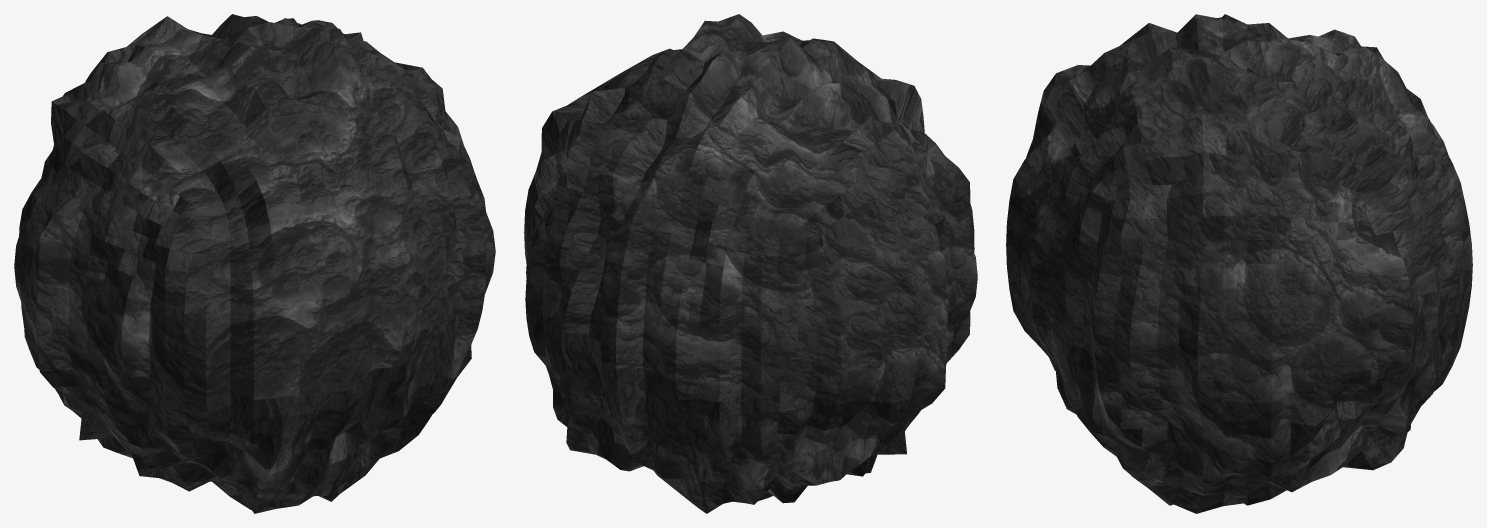
File: asteroid103.obj
3 views of the same model, side by side, from view 1: azimuth 30°, elevation 25°; view 2: azimuth 150°, elevation 25°; view 3: azimuth 270°, elevation 25° (orthographic). The views are drawn at different scales.
Parts seen in each view (by area): view 1: Cube_Cube.002; view 2: Cube_Cube.002; view 3: Cube_Cube.002.
Boxes of the visible parts, left/top/right/bottom form: Cube_Cube.002: left=14, top=14, right=495, bottom=513; Cube_Cube.002: left=524, top=14, right=977, bottom=513; Cube_Cube.002: left=1006, top=14, right=1472, bottom=513.
Bounding box in the file's own units: 1.8 × 1.87 × 1.72.
